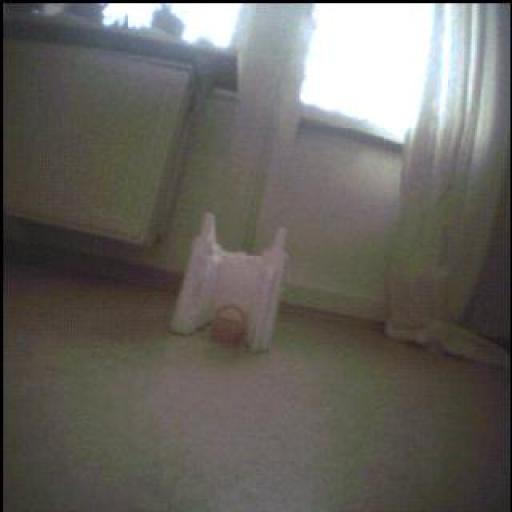Basket: (213, 307, 248, 345)
